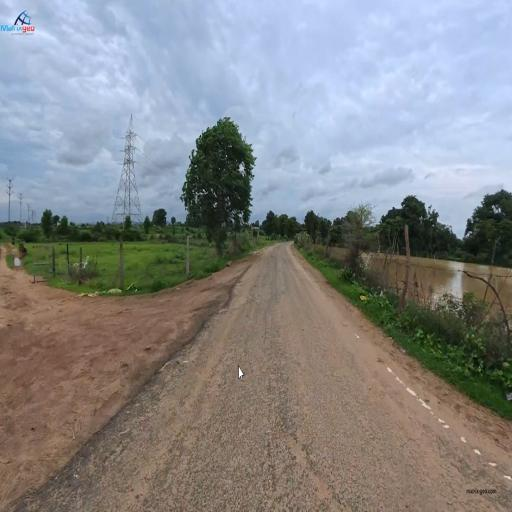edge_damage: (226, 282, 240, 318)
ravelling: (195, 399, 347, 479)
